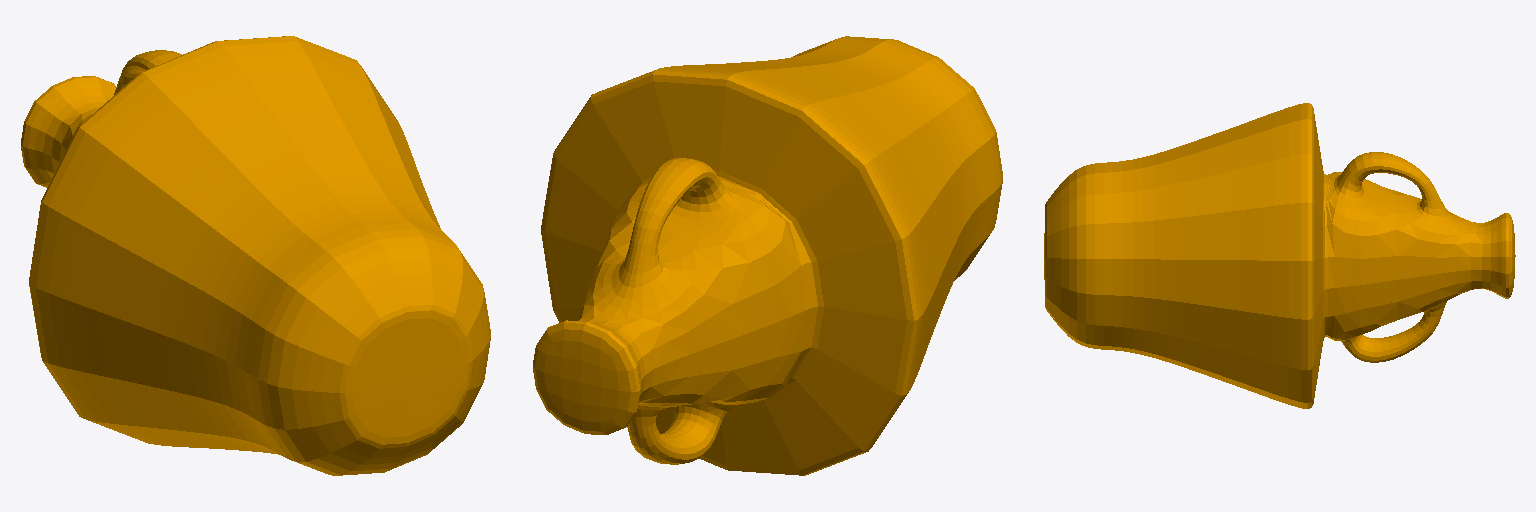
robot.urdf — 14:
<?xml version="1.0" ?>
<robot name="14">
  <link name="body">
    <visual>
      <geometry>
        <mesh filename="../shapes/14.obj"/>
      </geometry>
    </visual>
    <collision>
      <geometry>
        <mesh filename="../shapes/14.obj"/>
      </geometry>
    </collision>
  </link>
</robot>

--- Facts derived from the render (not from the file) ---
3 views of the same robot in one strip: view 1: azimuth 30°, elevation 25°; view 2: azimuth 150°, elevation 25°; view 3: azimuth 270°, elevation 25° (orthographic).
Model 14 with 1 links and 0 joints (none), rooted at body, posed all joints at 0.
Links seen in each view (by area): view 1: body; view 2: body; view 3: body.
Boxes of the visible links, x1=… form: body: x1=21, y1=36, x2=490, y2=475; body: x1=533, y1=36, x2=1002, y2=475; body: x1=1044, y1=103, x2=1515, y2=408.
Size in the robot's own frame: 7.69 by 11.99 by 7.69 metres.
1 mesh visuals loaded from 1 distinct referenced files (1 OBJ).